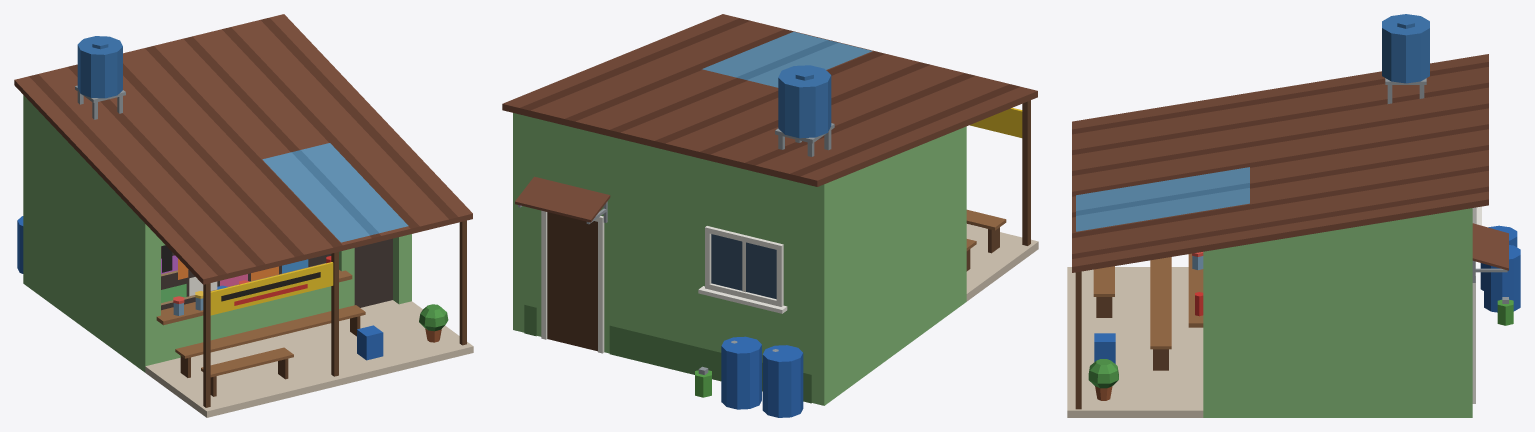
File: warung_07.glb
3 views of the same model, side by side, from view 1: azimuth 30°, elevation 25°; view 2: azimuth 150°, elevation 25°; view 3: azimuth 270°, elevation 25° (orthographic). The views are drawn at different scales.
Visible parts, largest first — view 1: warung_07; view 2: warung_07; view 3: warung_07.
Boxes of the visible parts, x1=… form: warung_07: x1=14, y1=14, x2=473, y2=417; warung_07: x1=502, y1=14, x2=1038, y2=417; warung_07: x1=1067, y1=14, x2=1520, y2=417.
Bounding box in the file's own units: 5.18 × 4.62 × 6.83.
